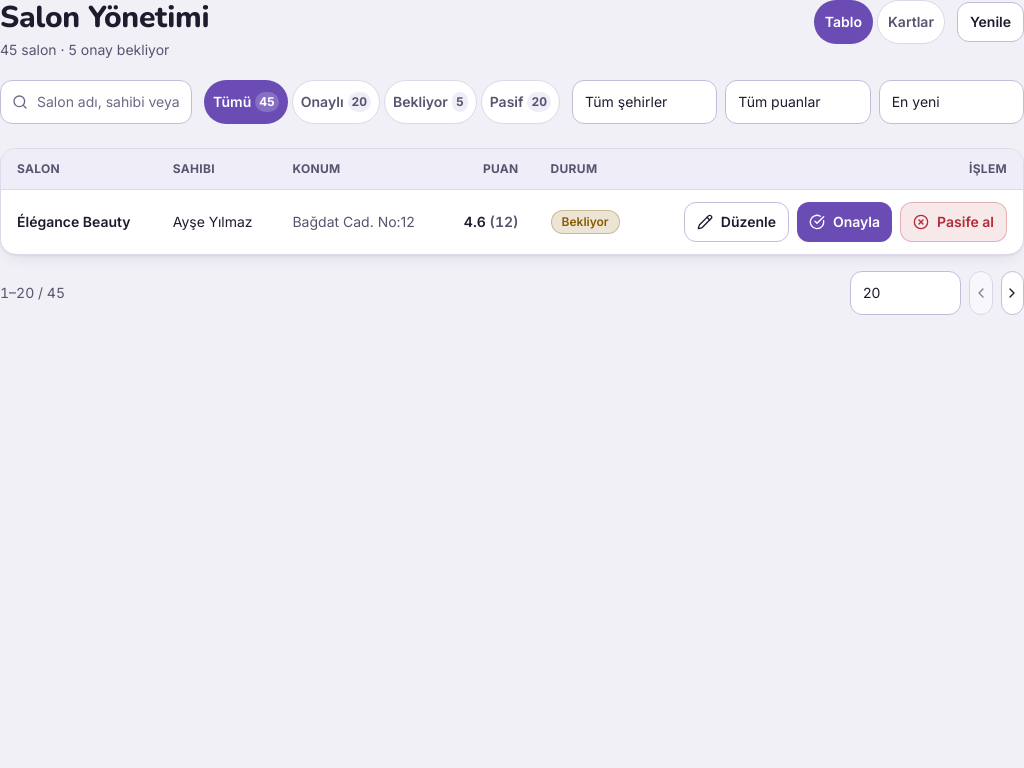
Test: SalonsPage › Pasife al onayı iptal edilirse istek atılmaz (R7)
This screenshot has width=1024, height=768.
Click the button "Pasife al": (954, 222) [900,202,1007,242]
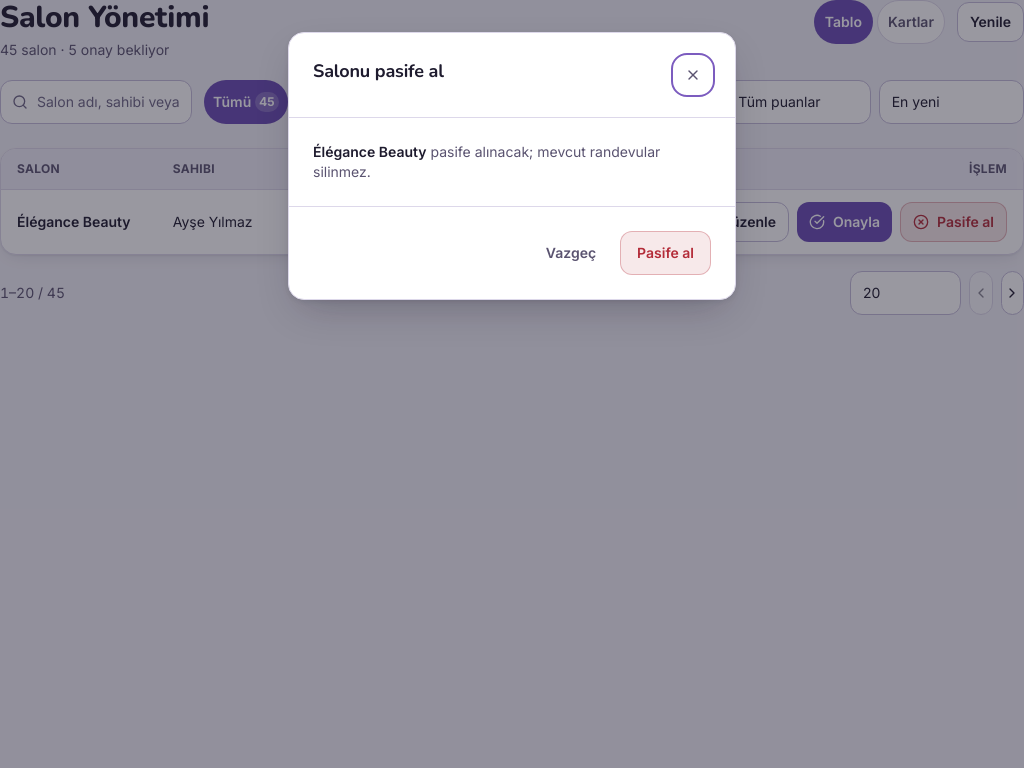
Expected: the dialog "Salonu pasife al" shows "mevcut randevular silinmez", [313,143,660,180]
Click the button "Vazgeç": (571, 253) [530,231,612,275]
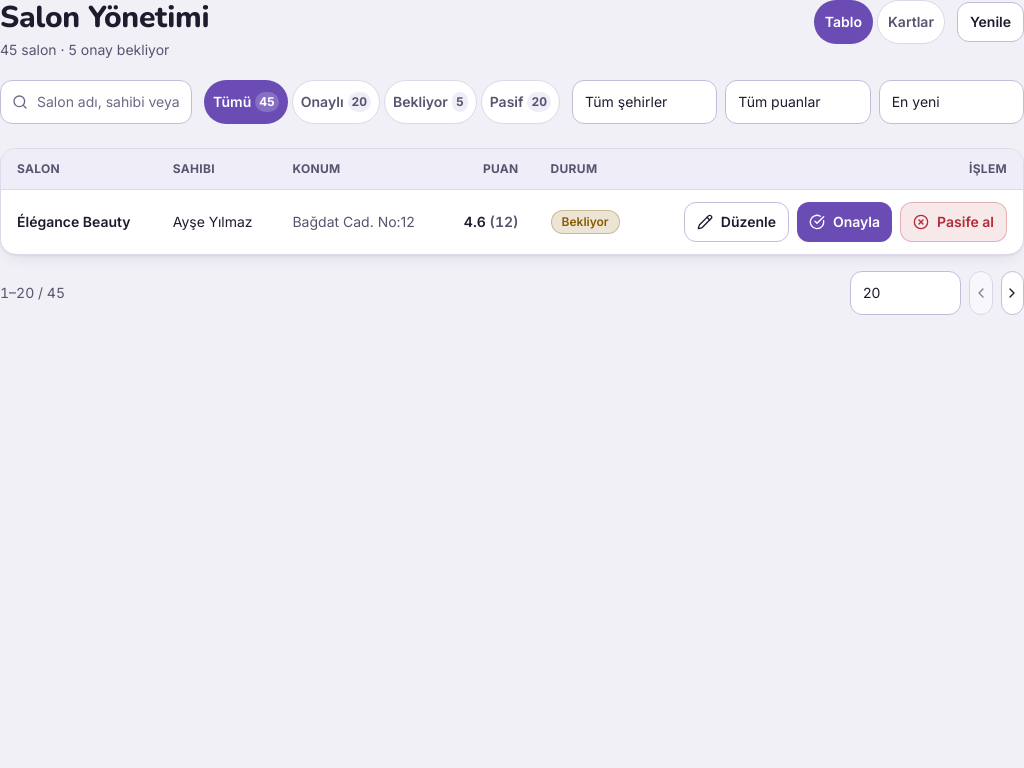
Expected: the heading "Salonu pasife al" is gone
